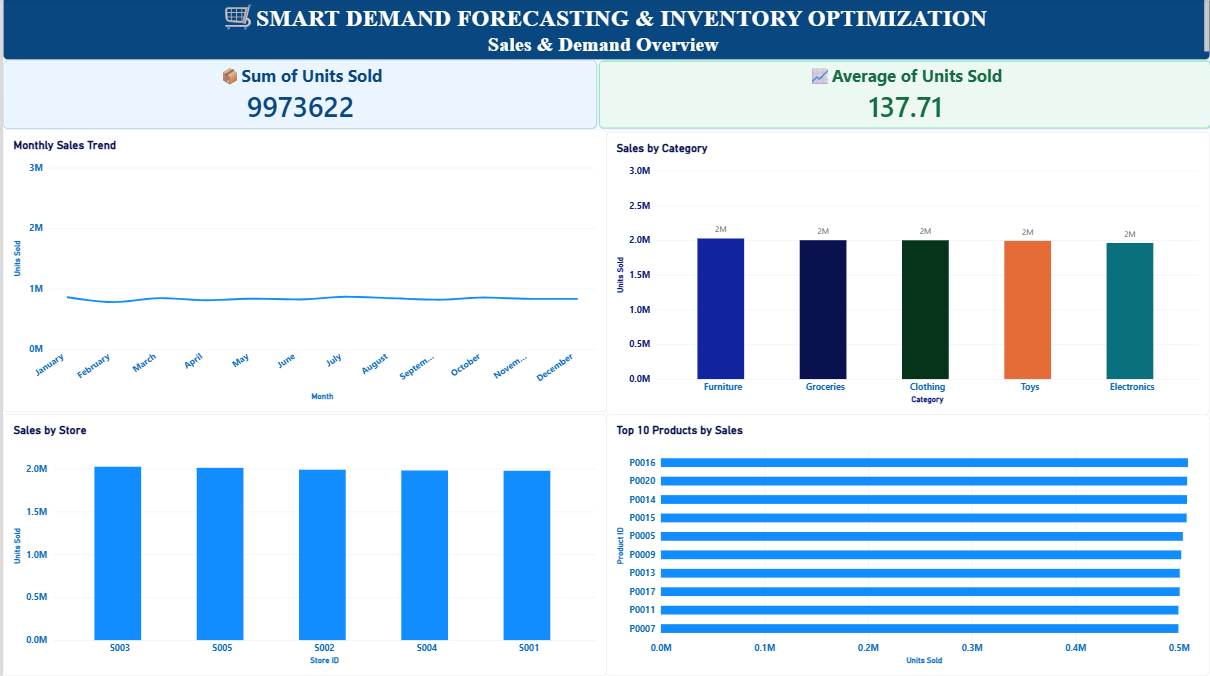

The dashboard page shown, as its layout file describes it:
{"tool":"powerbi","page":{"name":"Sales & Demand Overview","canvas":[1920,1080],"ordinal":0},"visuals":[{"type":"cardVisual","fields":{"Data":["Sum(retail_store_inventory_cleaned.Units Sold)"]},"box":[0,100,945,110],"z":0},{"type":"cardVisual","fields":{"Data":["Avg(retail_store_inventory_cleaned.Units Sold)"]},"box":[946.7,100,975,110],"z":1},{"type":"lineChart","title":"Monthly Sales Trend","fields":{"Category":["retail_store_inventory_cleaned.Date.Variation.Date Hierarchy.Month"],"Y":["Sum(retail_store_inventory_cleaned.Units Sold)"]},"box":[0,210,960,450],"z":2},{"type":"clusteredColumnChart","title":"Sales by Category","fields":{"Category":["retail_store_inventory_cleaned.Category"],"Y":["Sum(retail_store_inventory_cleaned.Units Sold)"]},"box":[960,214,960,450],"z":3},{"type":"clusteredColumnChart","title":"Sales by Store","fields":{"Category":["retail_store_inventory_cleaned.Store ID"],"Y":["Sum(retail_store_inventory_cleaned.Units Sold)"]},"box":[0,663.3,960,416.7],"z":4},{"type":"clusteredBarChart","title":"Top 10 Products by Sales","fields":{"Category":["retail_store_inventory_cleaned.Product ID"],"Y":["Sum(retail_store_inventory_cleaned.Units Sold)"]},"box":[960,663.3,960,416.7],"z":5},{"type":"textbox","box":[0,0,1920,100],"z":7}]}

Visuals, with their boxes in screenshot pixels (x1, y1, x2, y2), scaled from the page's 1920x1080 canvas onto the 1210x676 screenshot:
cardVisual - Sum(retail_store_inventory_cleaned.Units Sold): [0, 63, 596, 131]
cardVisual - Avg(retail_store_inventory_cleaned.Units Sold): [597, 63, 1209, 131]
"Monthly Sales Trend" lineChart: [0, 131, 605, 413]
"Sales by Category" clusteredColumnChart: [605, 134, 1209, 416]
"Sales by Store" clusteredColumnChart: [0, 415, 605, 675]
"Top 10 Products by Sales" clusteredBarChart: [605, 415, 1209, 675]
textbox: [0, 0, 1209, 63]
